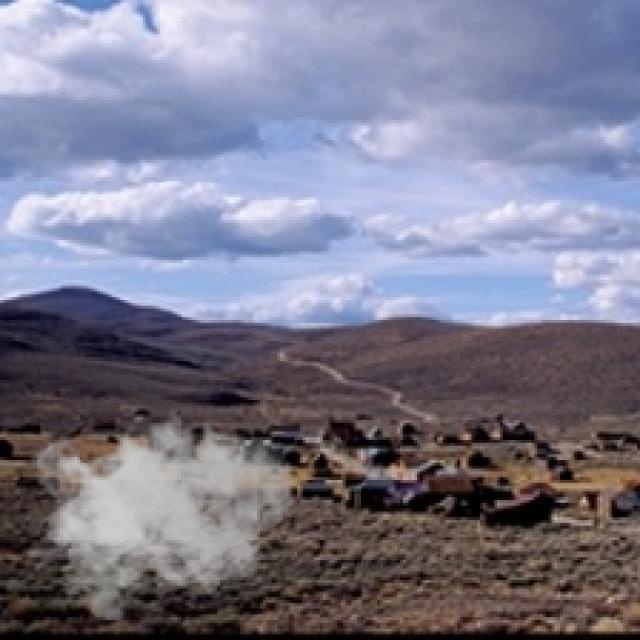Smoke: (29, 400, 298, 620)
